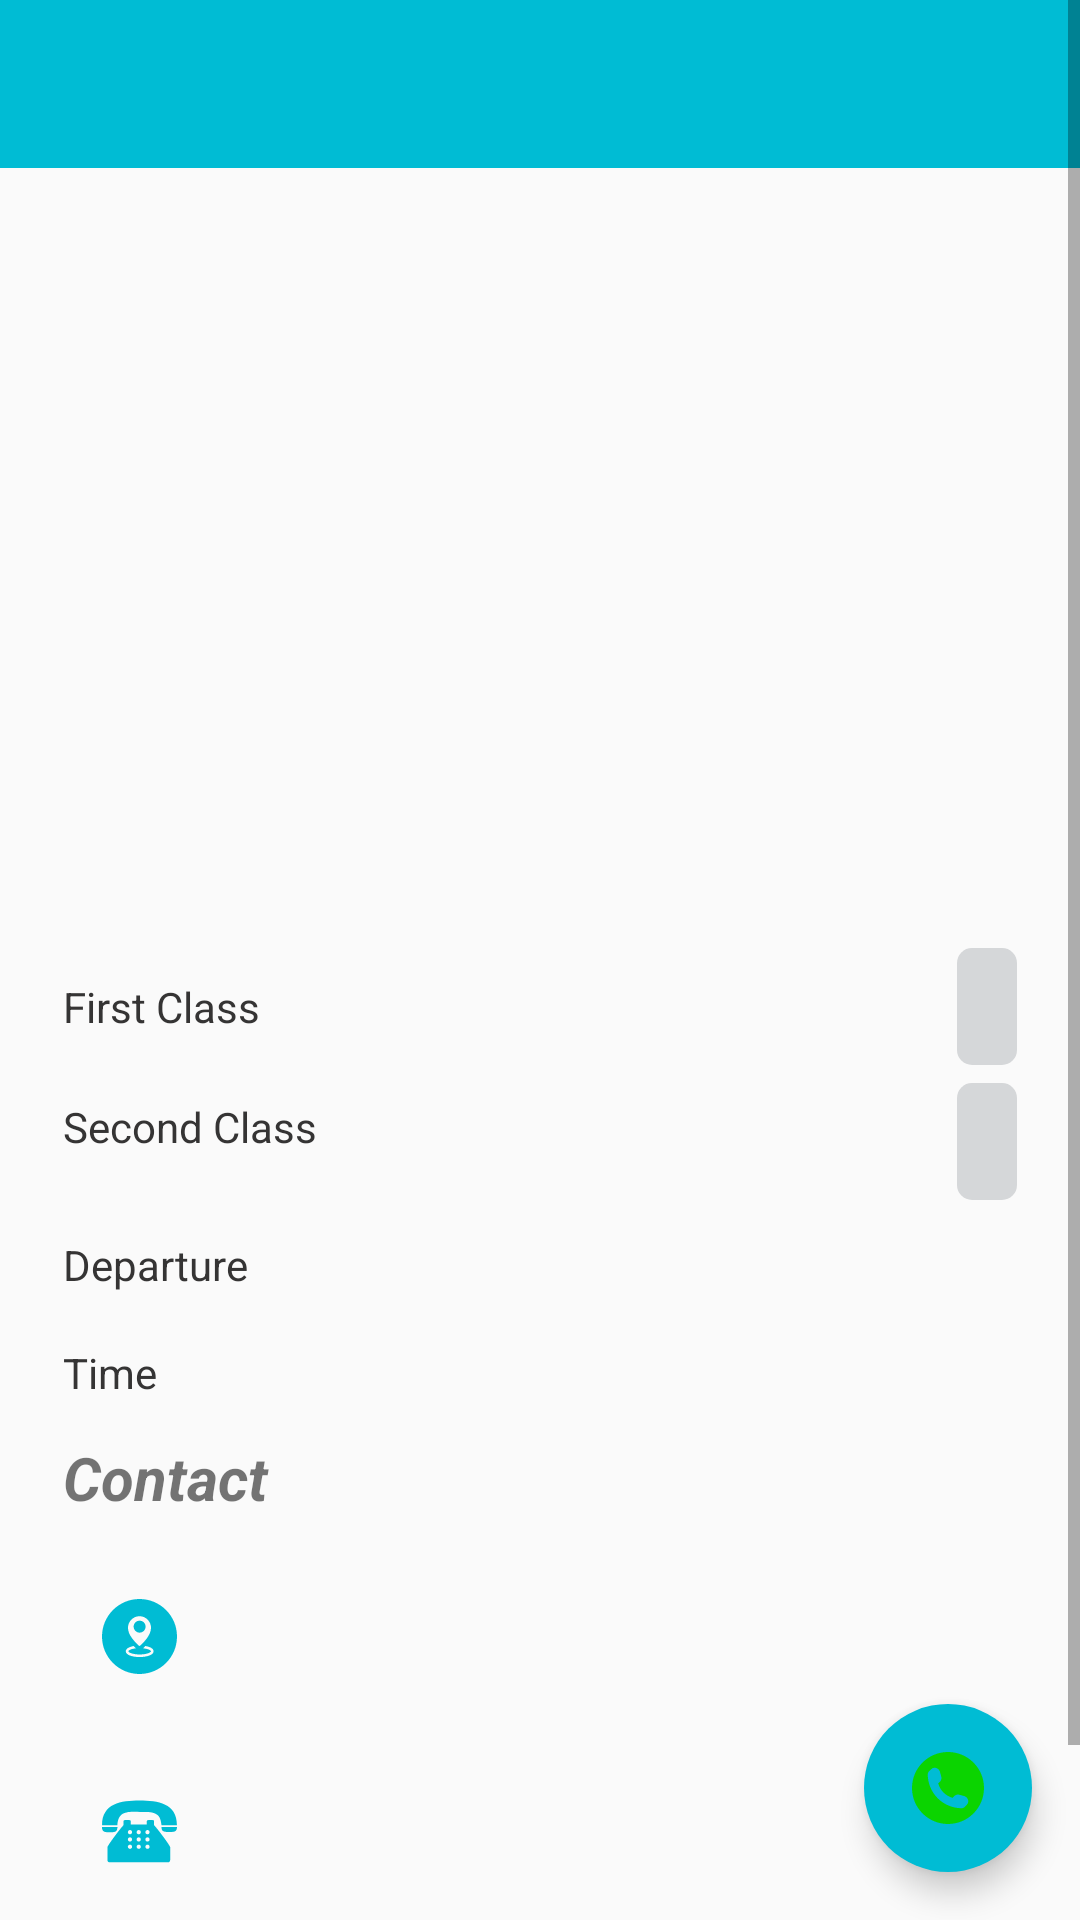

Locate icon controls on the screen. Image size 1080*1920, boxes as detection(x1, y1, x2, y2).
address: detection(102, 1599, 177, 1674)
old phone: detection(102, 1800, 177, 1863)
phone call: detection(864, 1704, 1032, 1872)
